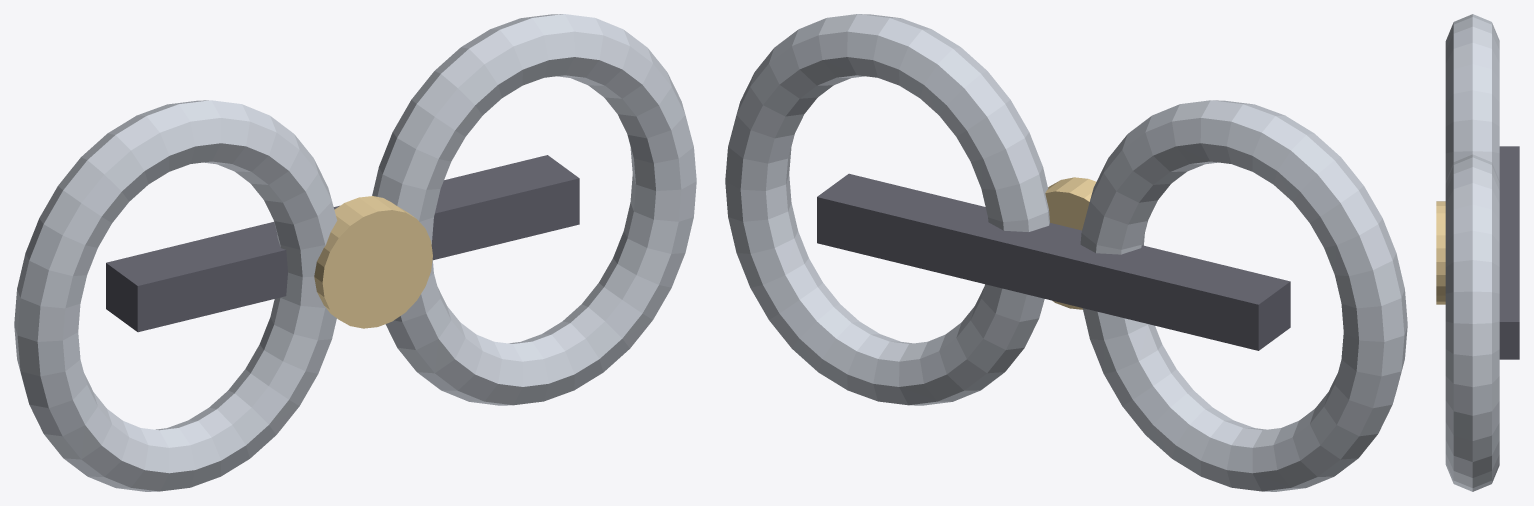
Rendered from ACC_Double_Clasp.glb.
3 views of the same model, side by side, from view 1: azimuth 30°, elevation 25°; view 2: azimuth 150°, elevation 25°; view 3: azimuth 270°, elevation 25° (orthographic). The views are drawn at different scales.
Parts seen in each view (by area): view 1: ACC_Double_Clasp_1, ACC_Double_Clasp_2, ACC_Double_Clasp_3, ACC_Double_Clasp_4; view 2: ACC_Double_Clasp_2, ACC_Double_Clasp_1, ACC_Double_Clasp_3, ACC_Double_Clasp_4; view 3: ACC_Double_Clasp_2, ACC_Double_Clasp_1, ACC_Double_Clasp_3, ACC_Double_Clasp_4.
Boxes of the visible parts, x1,y1,x2,y2 form: ACC_Double_Clasp_1: (14, 100, 337, 491); ACC_Double_Clasp_2: (372, 14, 696, 405); ACC_Double_Clasp_3: (106, 155, 579, 332); ACC_Double_Clasp_4: (314, 196, 432, 328); ACC_Double_Clasp_2: (725, 14, 1049, 405); ACC_Double_Clasp_1: (1080, 100, 1407, 491); ACC_Double_Clasp_3: (817, 173, 1290, 350); ACC_Double_Clasp_4: (1045, 177, 1096, 309); ACC_Double_Clasp_2: (1445, 154, 1499, 491); ACC_Double_Clasp_1: (1445, 14, 1499, 180); ACC_Double_Clasp_3: (1499, 146, 1519, 359); ACC_Double_Clasp_4: (1436, 201, 1445, 304).
Bounding box in the file's own units: 0.0612 × 0.0332 × 0.008.
